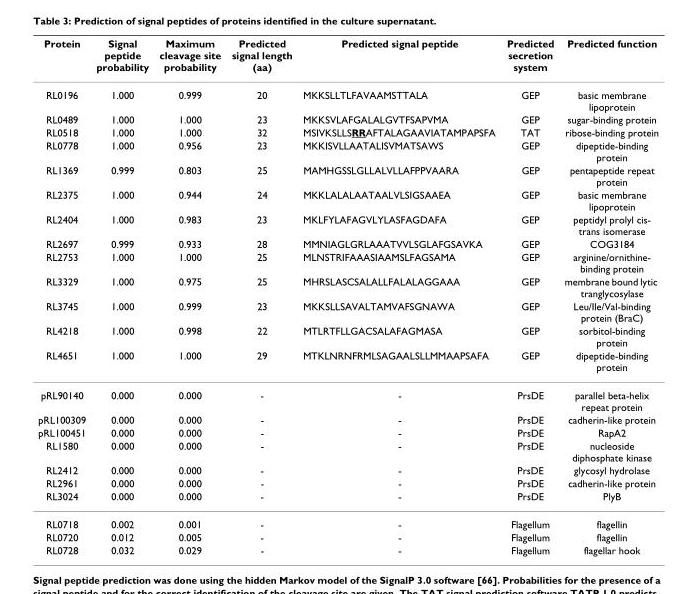table: (37, 36, 657, 555)
table column: (296, 36, 500, 555), (558, 36, 657, 555), (153, 36, 225, 555), (225, 36, 296, 555), (90, 36, 153, 555), (500, 36, 558, 555), (37, 36, 90, 555)
table column header: (37, 36, 657, 80)
table row: (37, 36, 657, 80), (37, 80, 657, 112), (37, 348, 657, 380), (37, 380, 657, 412), (37, 138, 657, 163), (37, 187, 657, 212), (37, 249, 657, 274), (37, 274, 657, 299), (37, 323, 657, 348), (37, 438, 657, 463), (37, 163, 657, 187), (37, 212, 657, 236), (37, 299, 657, 323), (37, 509, 657, 530), (37, 489, 657, 509), (37, 112, 657, 125), (37, 125, 657, 138), (37, 236, 657, 249), (37, 412, 657, 425), (37, 425, 657, 438), (37, 463, 657, 476), (37, 476, 657, 489), (37, 530, 657, 543), (37, 543, 657, 555)
